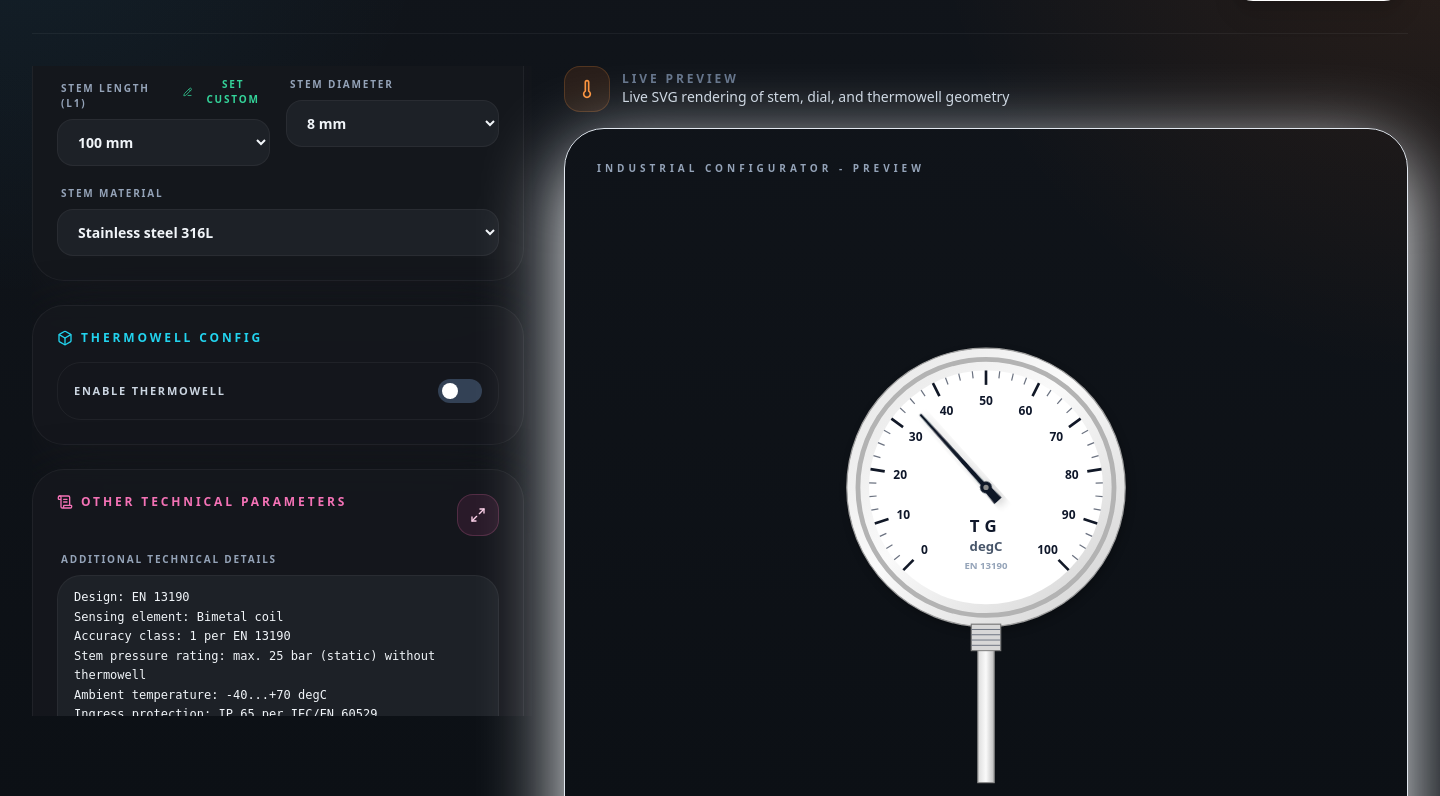
Test case: ConfiguratorPage › shows thermowell fields only when the accessory is enabled
(page scrolled)
Expected: the text "thermowell design" is not shown
Click the switch named "thermowell": (460,391) [438, 379, 482, 403]
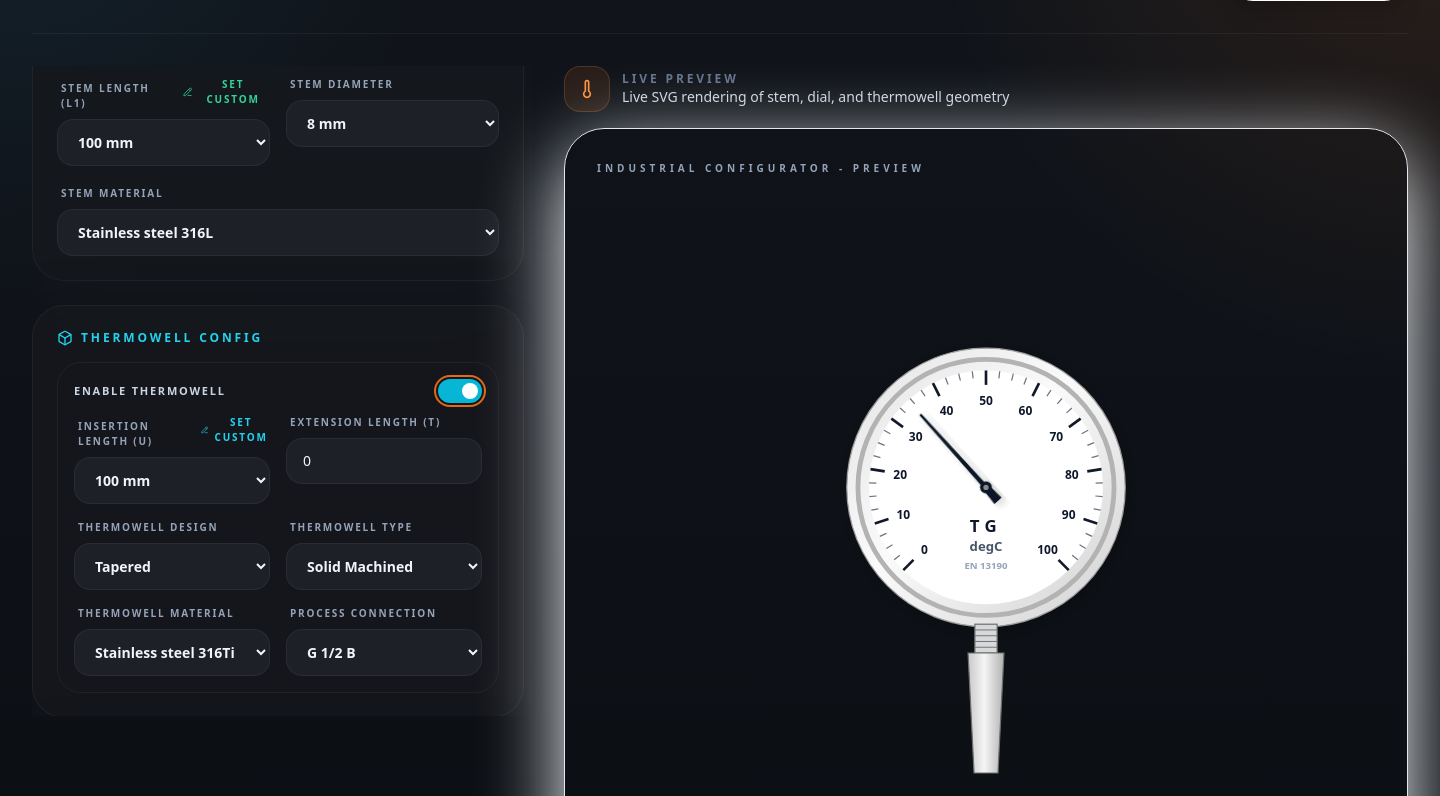
Result: the text "Thermowell Design" is shown at [78, 520, 218, 535]
Result: the text "Thermowell Material" is shown at [78, 606, 234, 621]
